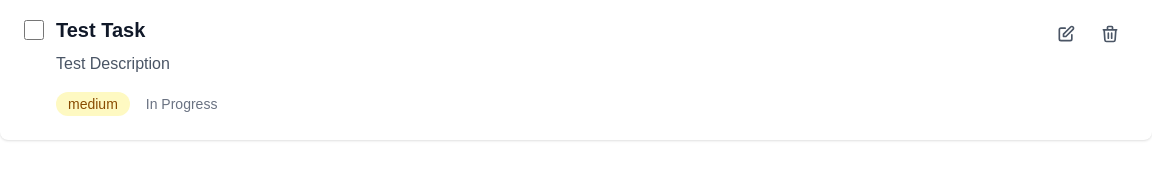
Scenario: TaskCard › enters edit mode when title is double-clicked
Double-click the heading "Test Task" at (101, 30), box [56, 19, 145, 41]
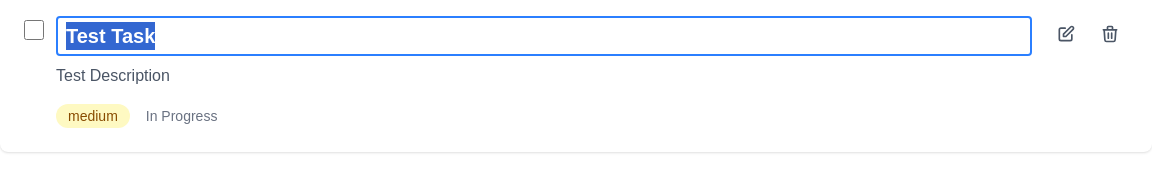
Now the field showing "Test Task" is shown, box [56, 16, 1032, 56]
